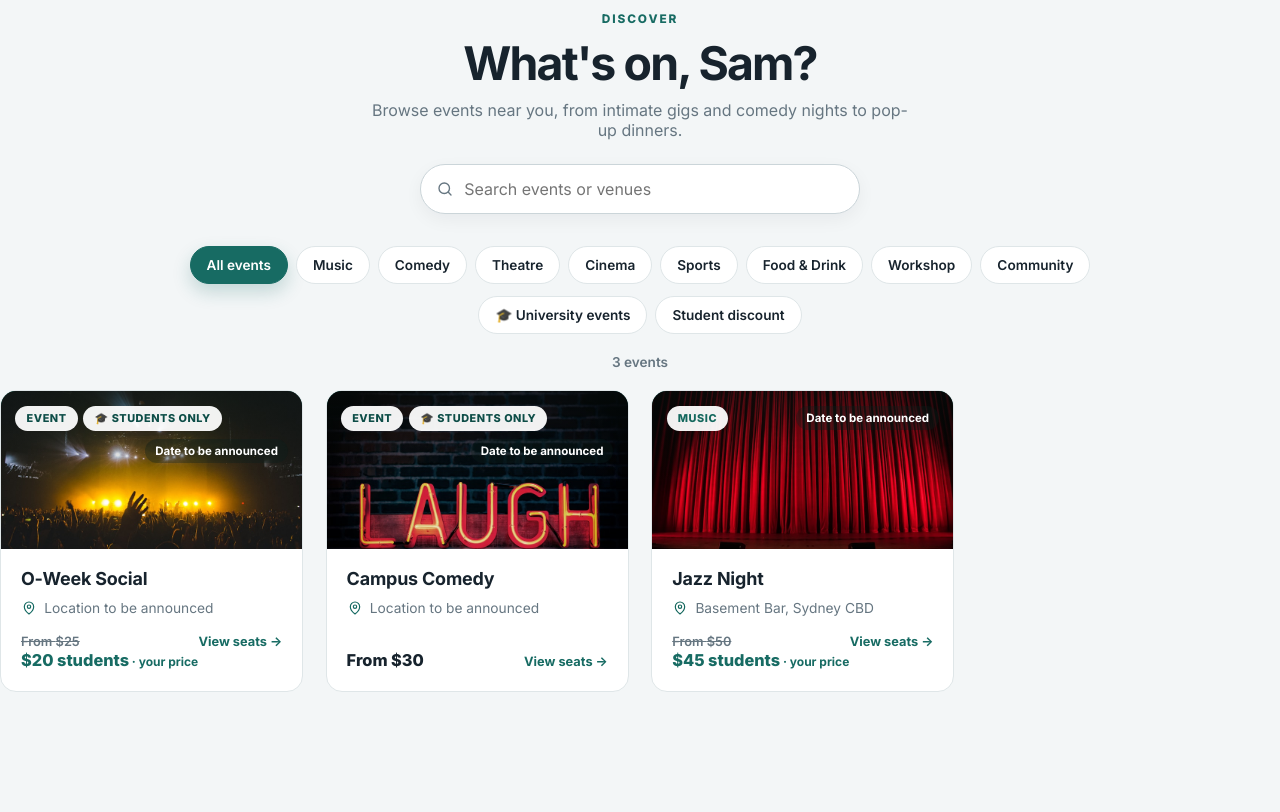
Test: BrowseEventsPage student filters (US 12) › shows each event's stored venue, city and category, and filters by category
The image size is (1280, 812).
Expected: the text "Basement Bar, Sydney CBD" is shown, [672,600,874,616]
Expected: the text "Music" is shown, [667,406,728,431]
Click the button "Music" at point(333, 265), box [296,246,370,284]
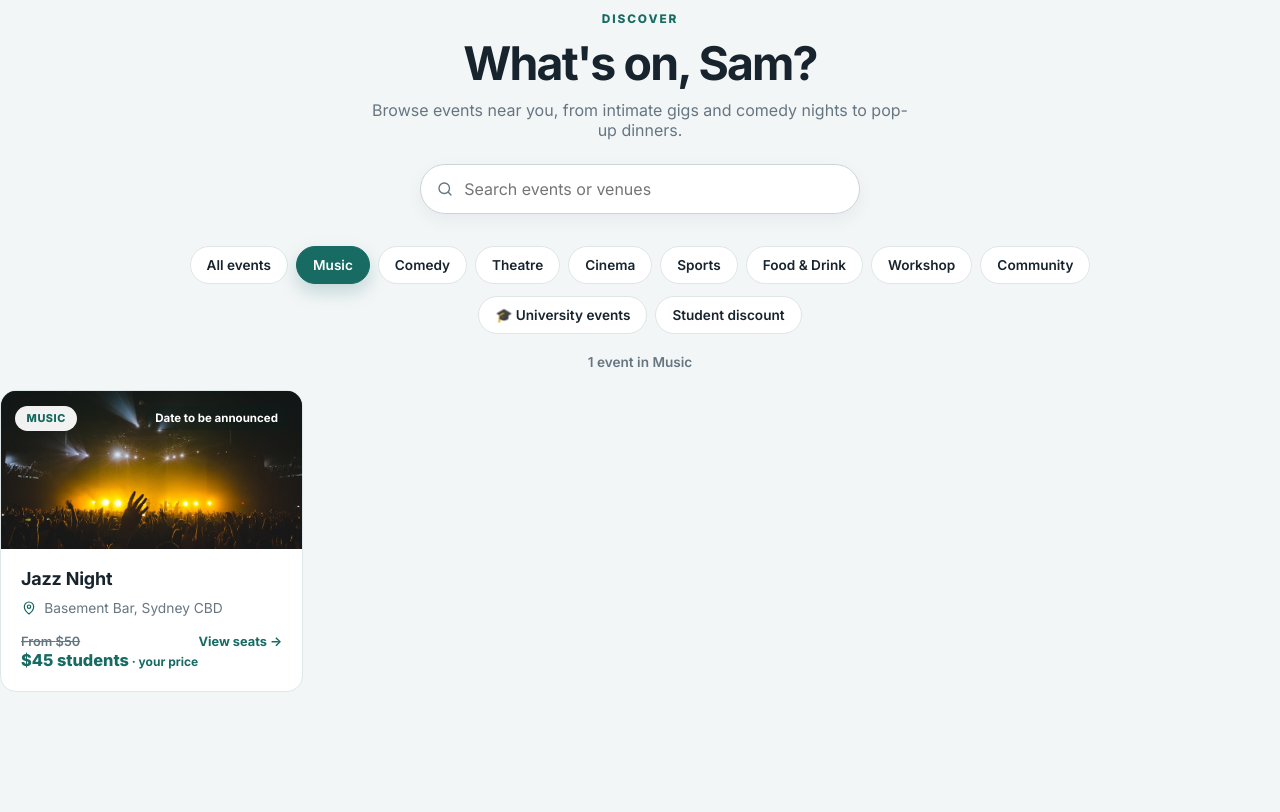
Expected: the heading "Jazz Night" is shown, [21,568,112,589]
Result: the link "Campus Comedy" is gone
